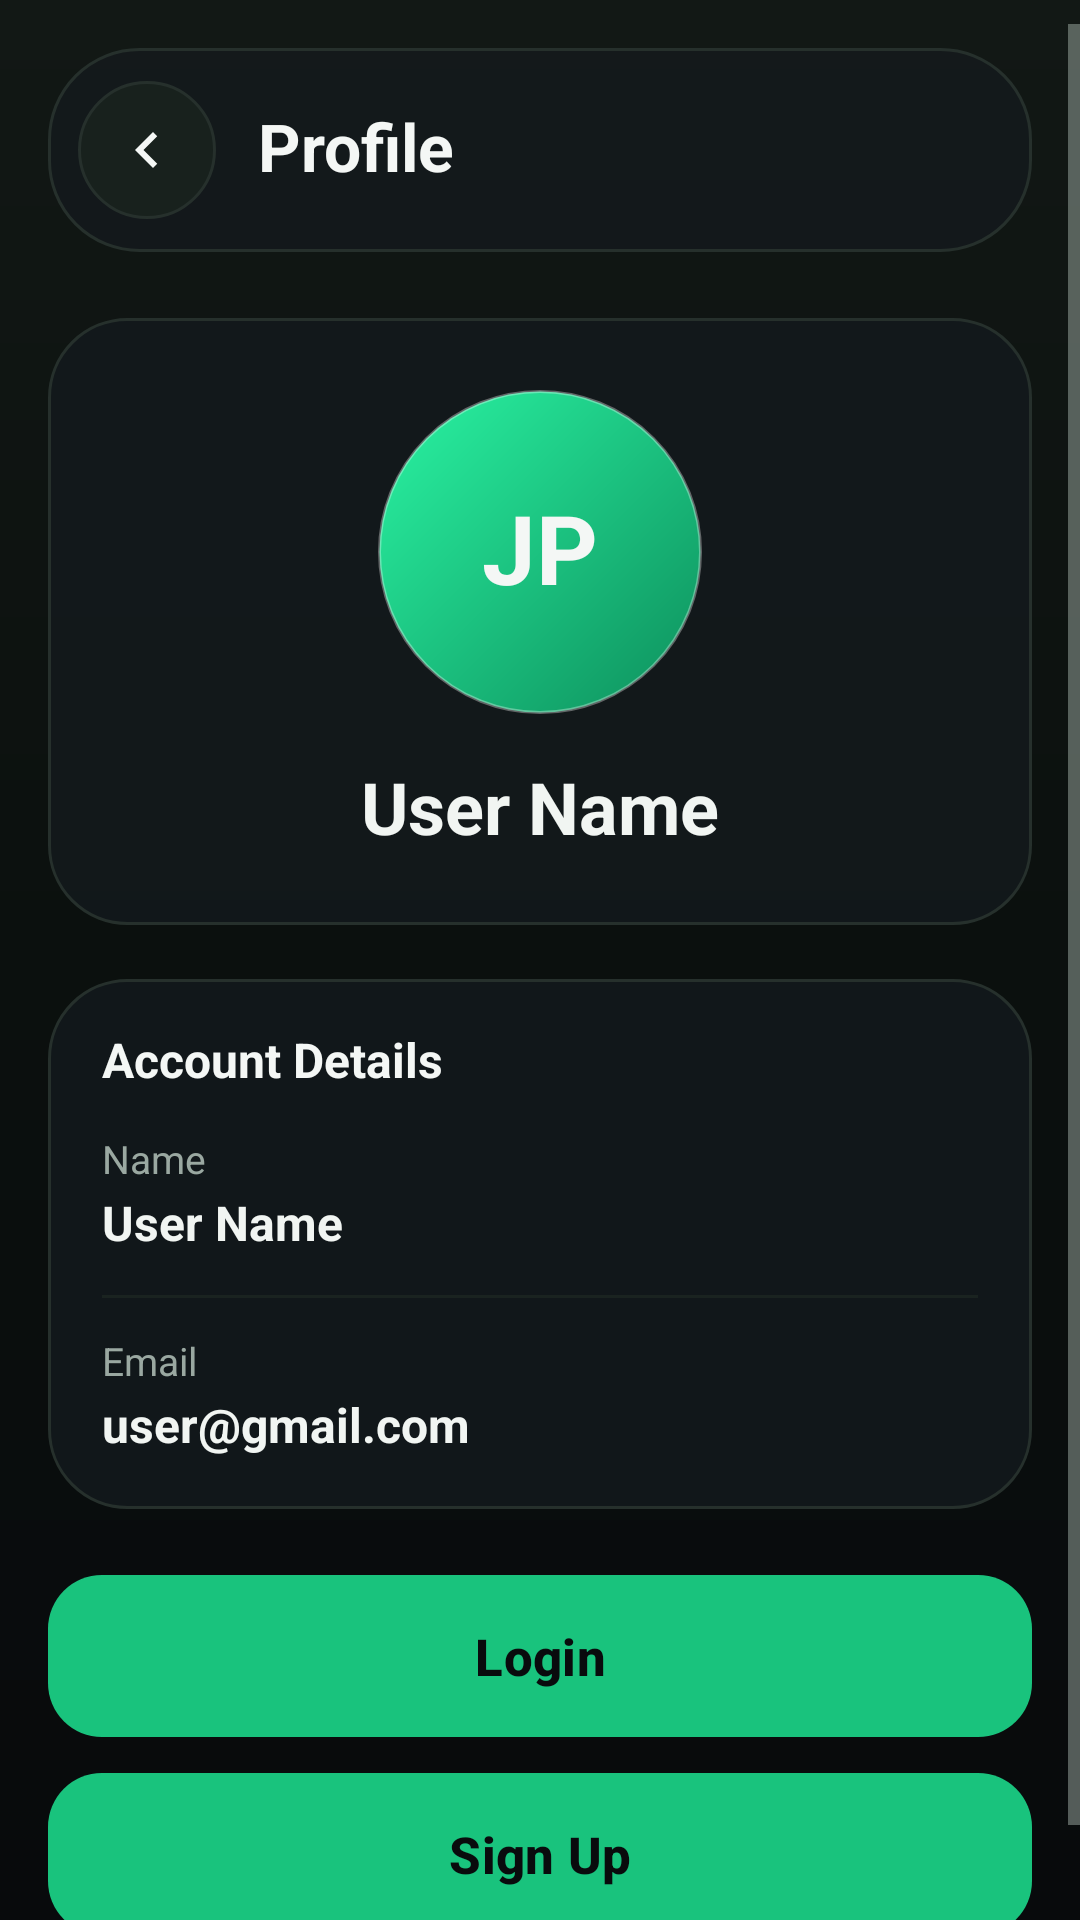

Icon bounding boxes for this 1080 x 1920 phone screenshot, format rect(x1, y1, x2, y2):
Back: rect(78, 81, 216, 219)
